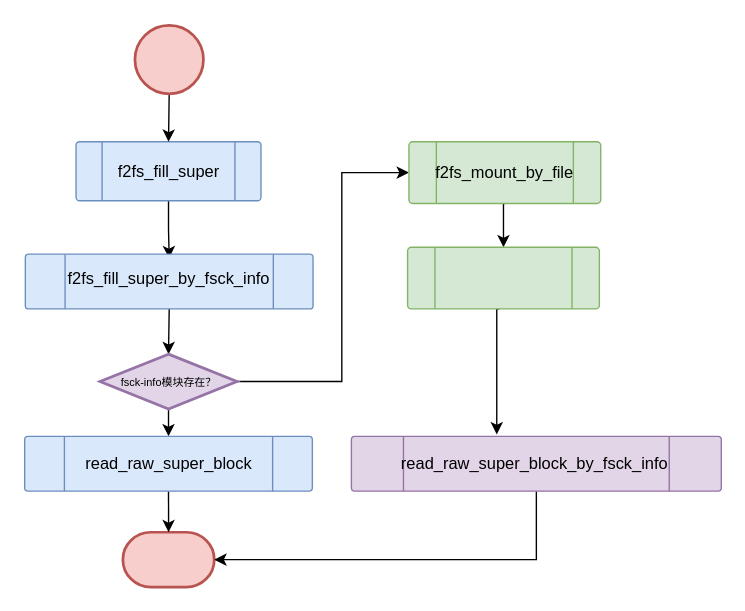
Image size: 745x611. Some labels were removed from this diagram. The shapes that lost their labels are listed below. From the top down, each one's centre as x and y in pixels, then its label:
At (168,59): "start".
At (502,277): "load_data".
At (168,559): "结束".
